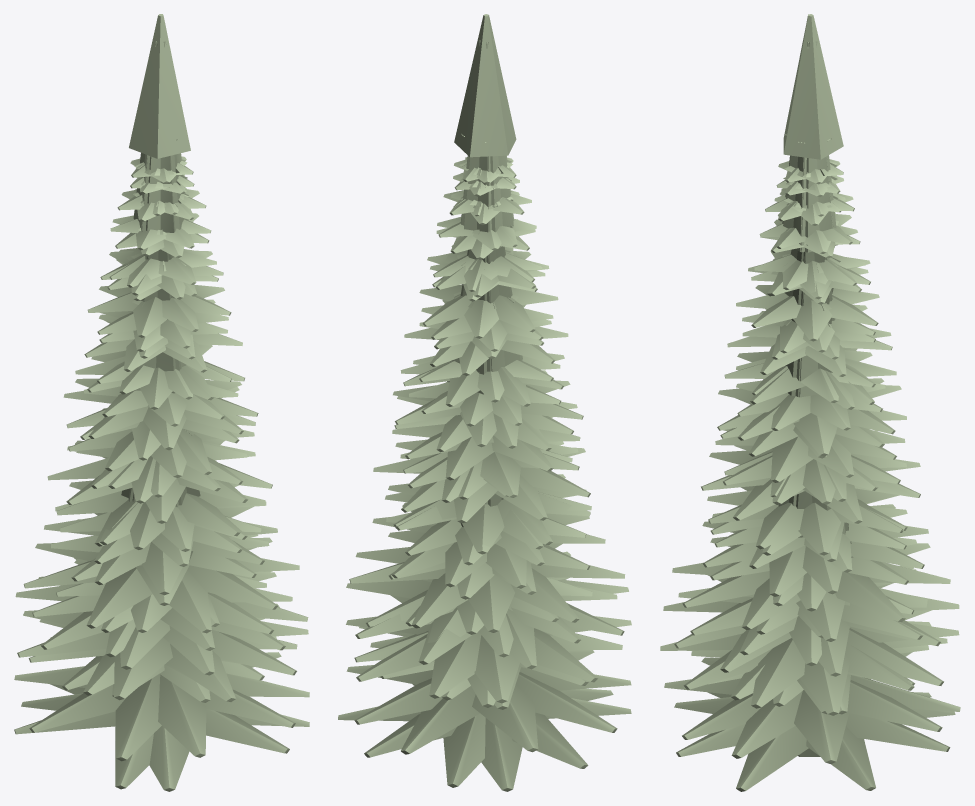
File: tree_fir.glb
The picture shows the model from 3 angles, left to right: view 1: azimuth 30°, elevation 25°; view 2: azimuth 150°, elevation 25°; view 3: azimuth 270°, elevation 25°; orthographic projection.
Visible parts, largest first — view 1: tier2_foliage, tier1_foliage, tier0_foliage; view 2: tier2_foliage, tier1_foliage, tier0_foliage; view 3: tier2_foliage, tier1_foliage, tier0_foliage.
Boxes of the visible parts, x1,y1,x2,y2 form: tier2_foliage: (15, 41, 308, 701); tier1_foliage: (14, 41, 309, 761); tier0_foliage: (14, 14, 309, 791); tier2_foliage: (346, 40, 631, 703); tier1_foliage: (346, 39, 631, 754); tier0_foliage: (338, 14, 631, 791); tier2_foliage: (660, 41, 959, 715); tier1_foliage: (664, 39, 960, 763); tier0_foliage: (674, 14, 955, 791).
Bounding box in the file's own units: 0.3702 × 1 × 0.3711.
